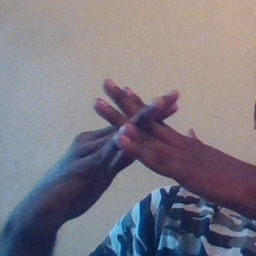W: (77, 76, 198, 195)
